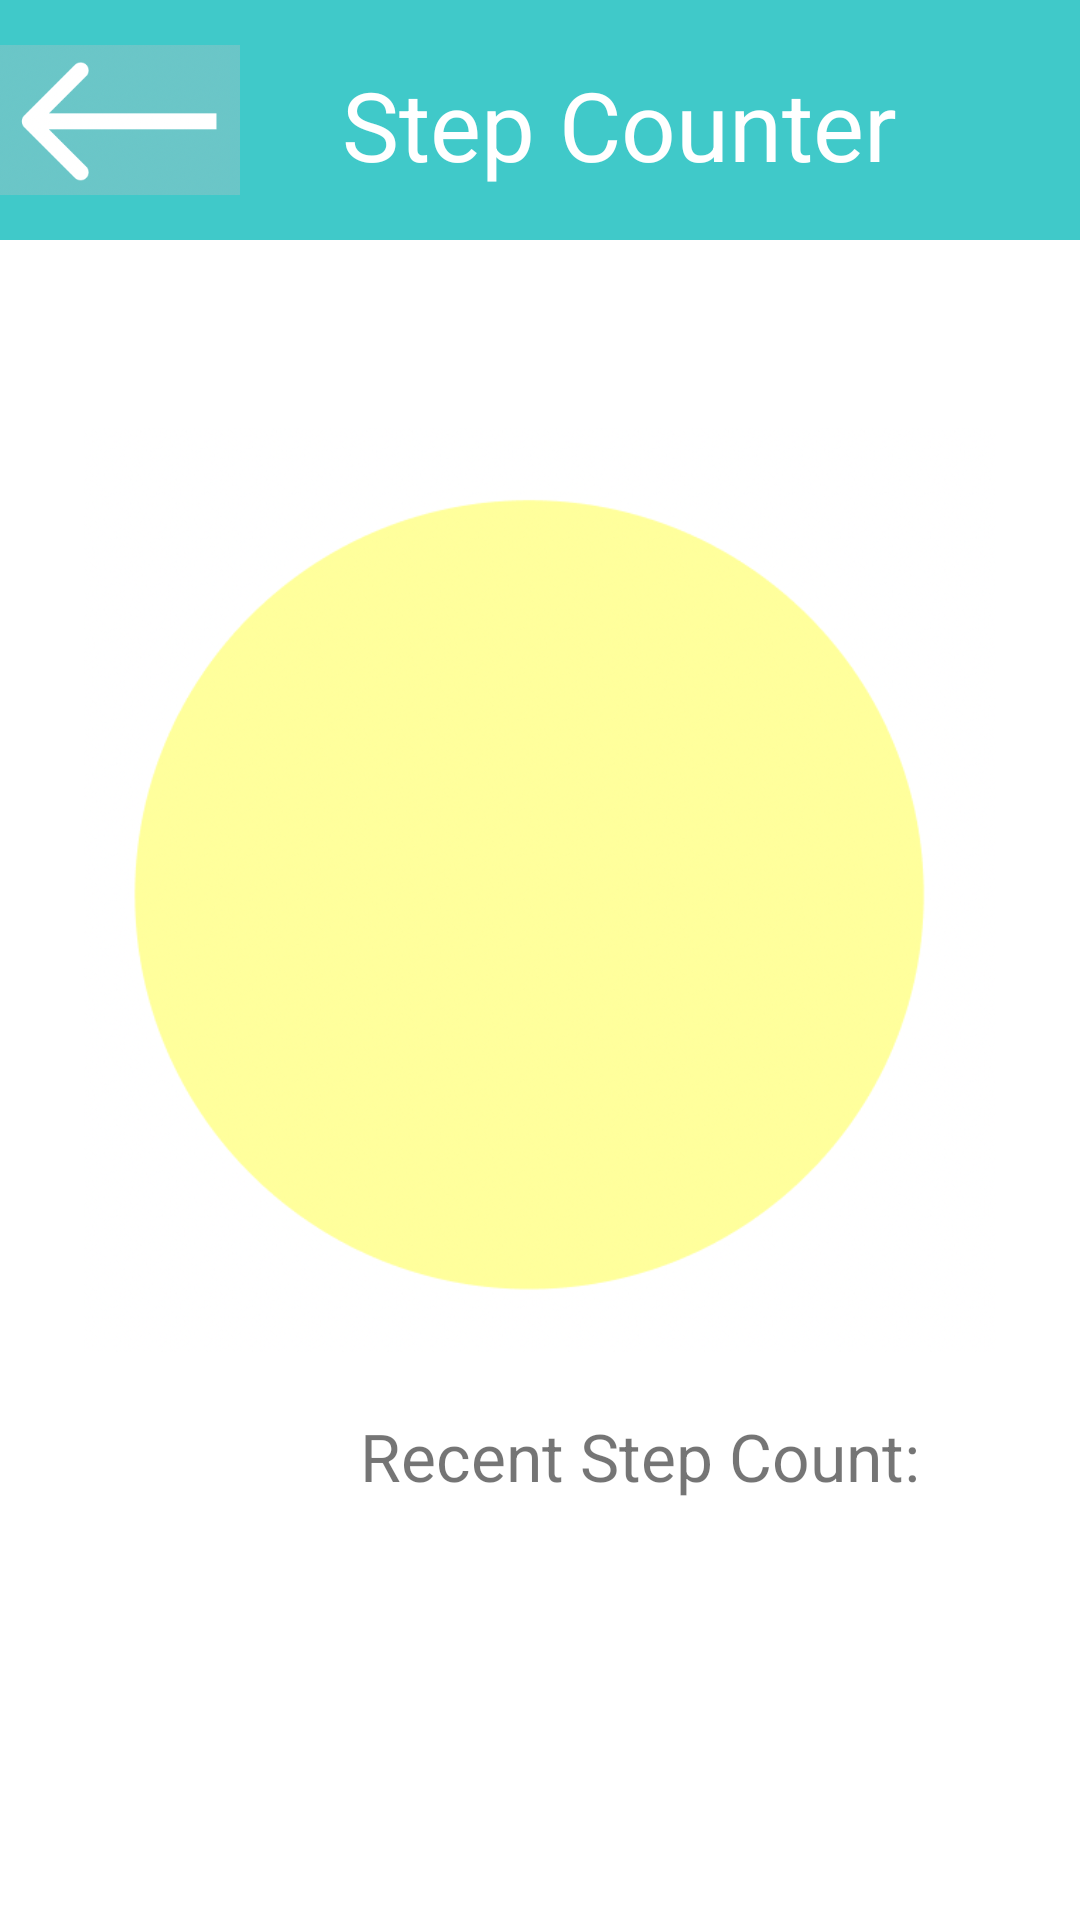

Screen size 1080x1920. Icon name, then its center in pixels as (x,y):
back: (120,120)
